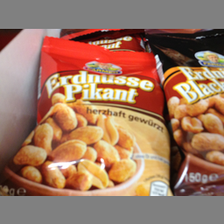nuts: (1, 36, 170, 195), (146, 32, 224, 194)
